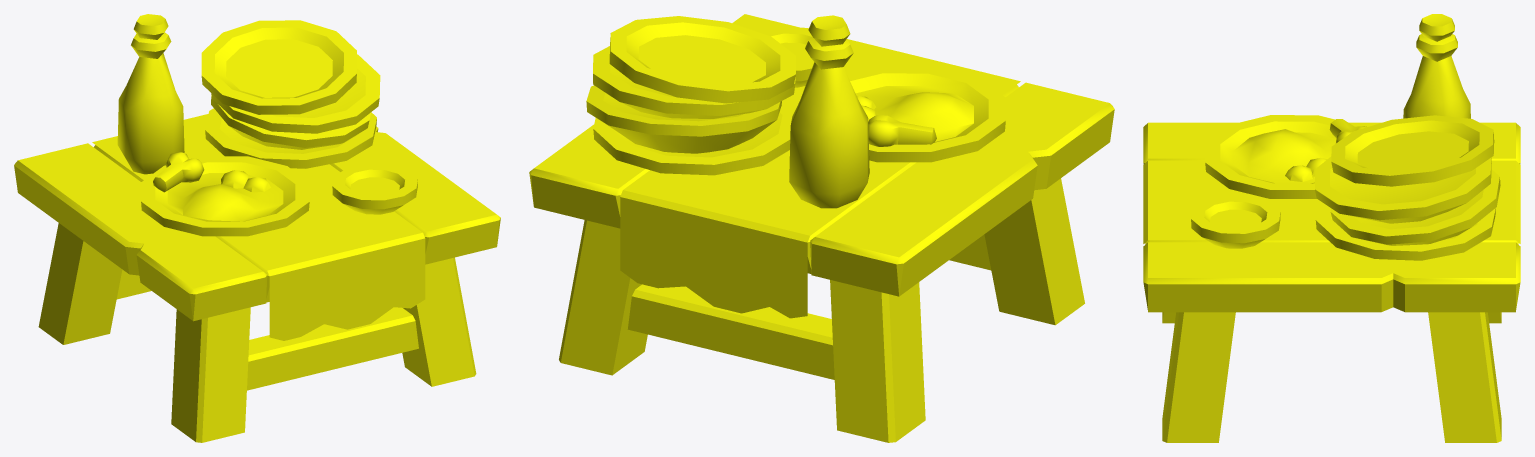
The model's file is kaykit-table-medium-tablecloth-decorated-b.glb.
3 renders of one model, left to right at view 1: azimuth 30°, elevation 25°; view 2: azimuth 150°, elevation 25°; view 3: azimuth 270°, elevation 25°, orthographic. The views are drawn at different scales.
Parts seen in each view (by area): view 1: table_medium_tablecloth_decorated_B; view 2: table_medium_tablecloth_decorated_B; view 3: table_medium_tablecloth_decorated_B.
Part boxes in pixels (box(x1,y1,x2,y2)): table_medium_tablecloth_decorated_B: box(14, 14, 500, 442); table_medium_tablecloth_decorated_B: box(529, 14, 1114, 442); table_medium_tablecloth_decorated_B: box(1143, 14, 1520, 442).
Size of the model in its own units: 2 by 1.89 by 2.
